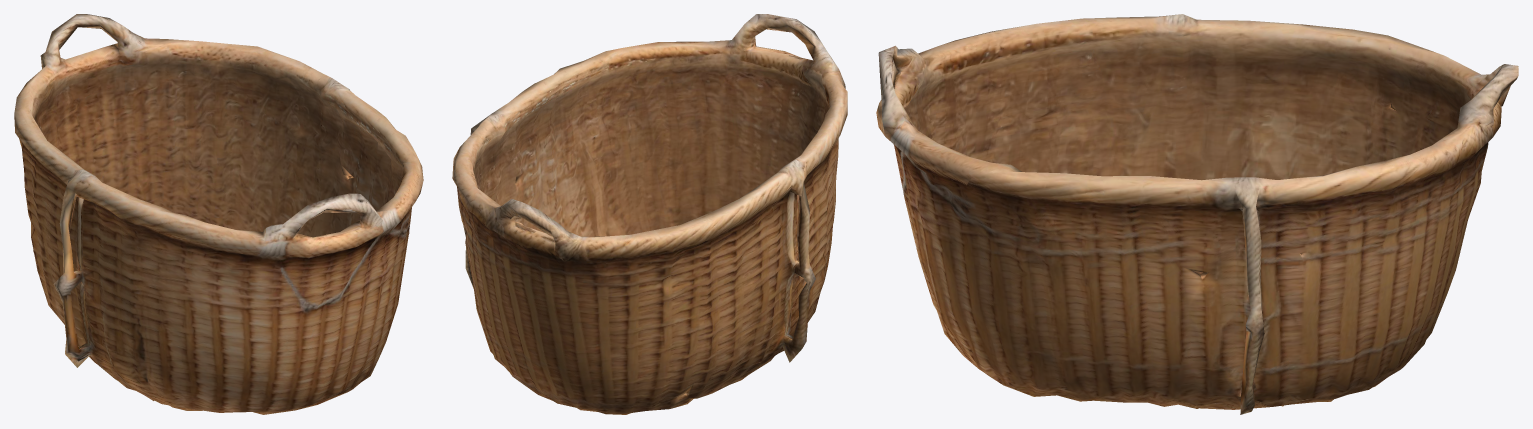
3 renders of one model, left to right at view 1: azimuth 30°, elevation 25°; view 2: azimuth 150°, elevation 25°; view 3: azimuth 270°, elevation 25°, orthographic. The views are drawn at different scales.
Parts seen in each view (by area): view 1: Mesh1; view 2: Mesh1; view 3: Mesh1.
Part boxes in pixels (box(x1,y1,x2,y2)): Mesh1: box(14, 14, 423, 414); Mesh1: box(452, 14, 847, 414); Mesh1: box(876, 14, 1518, 414).
Size of the model in its own units: 144 by 105 by 199.
1 material, 1 textured.
